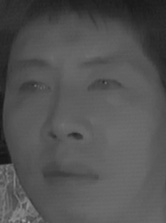eye: (85, 73, 124, 97), (15, 78, 53, 98)
mouth: (42, 156, 102, 194)
